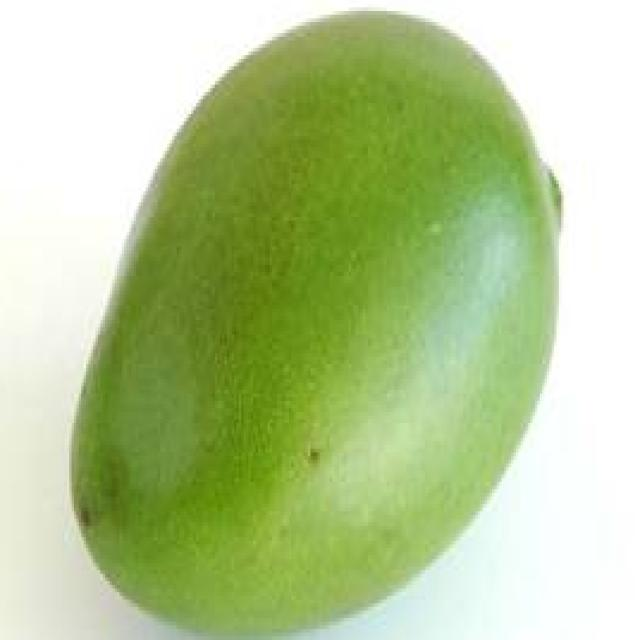mango: (65, 0, 573, 640)
